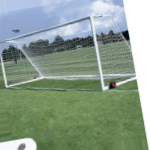goals: (1, 15, 137, 93)
